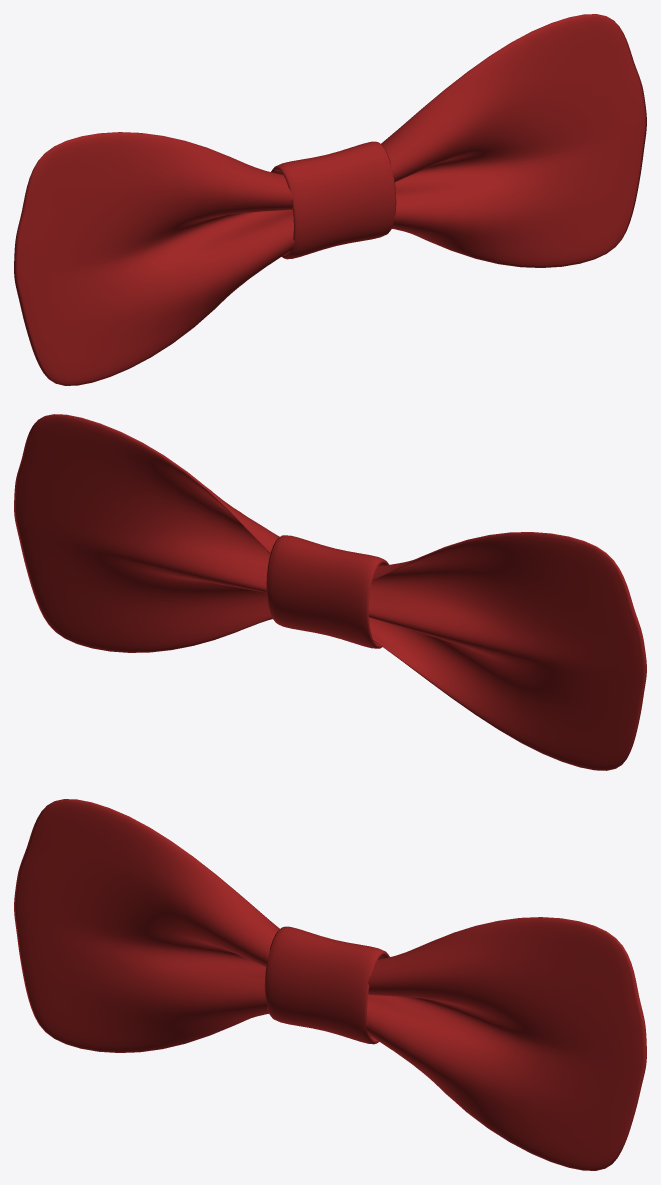
The model's file is Tie.fbx.
The picture shows the model from 3 angles, top to bottom: view 1: azimuth 30°, elevation 25°; view 2: azimuth 150°, elevation 25°; view 3: azimuth 330°, elevation 25°; orthographic projection.
Visible parts, largest first — view 1: corbatin; view 2: corbatin; view 3: corbatin.
Part boxes in pixels (bbox=[...]): corbatin: bbox=[14, 14, 646, 385]; corbatin: bbox=[14, 414, 646, 770]; corbatin: bbox=[14, 799, 646, 1170].
Bounding box in the file's own units: 139 × 49.92 × 11.09.
